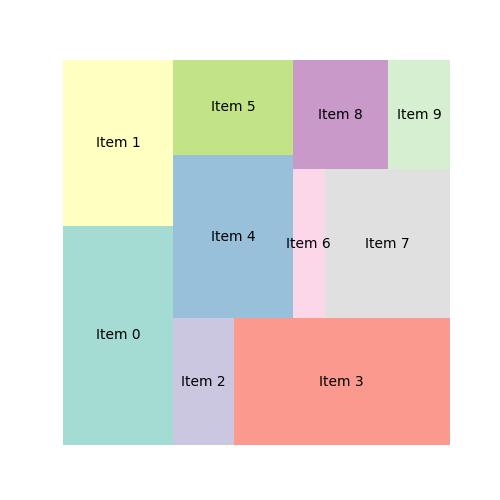rectangle: (235, 318, 451, 446), (62, 225, 173, 443), (174, 155, 294, 317), (62, 59, 173, 226), (327, 169, 451, 318), (174, 59, 292, 156), (292, 59, 389, 169), (174, 316, 235, 444), (387, 60, 449, 170), (292, 169, 328, 318)
